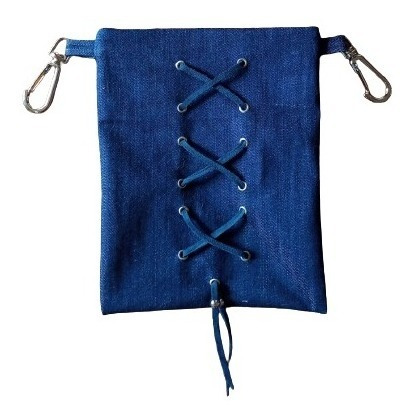cartera: (49, 24, 378, 314)
